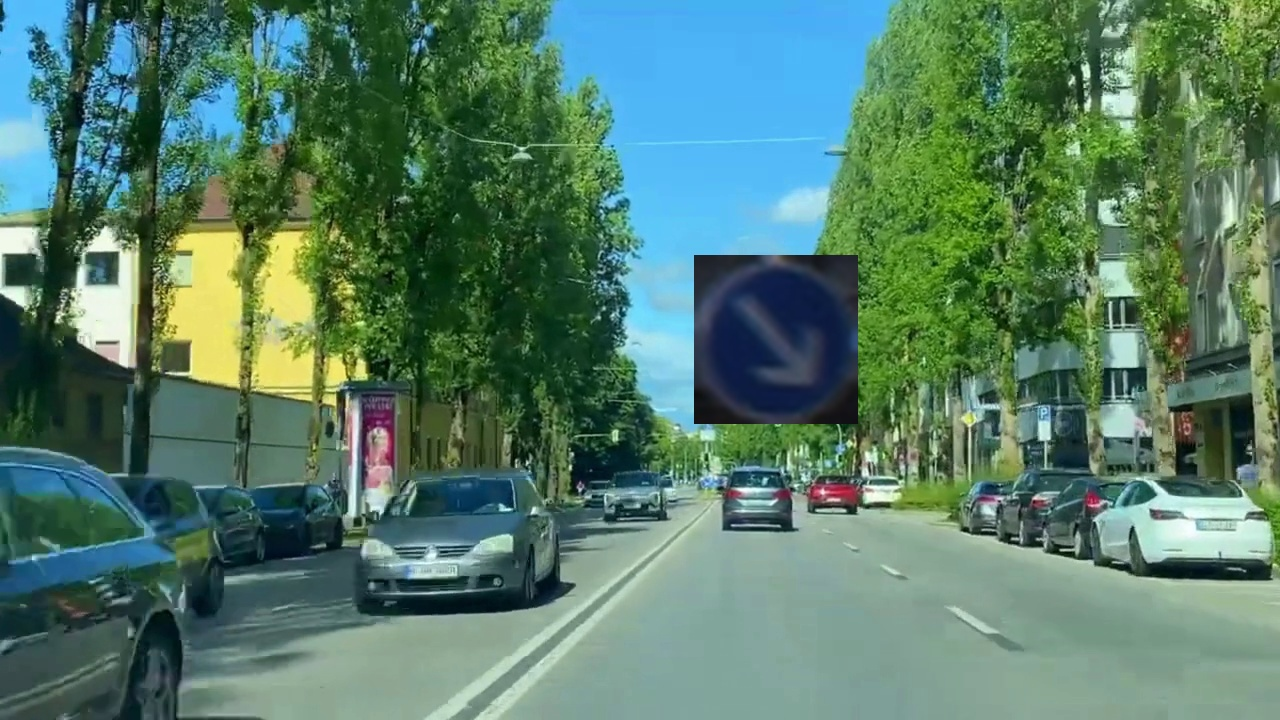Keep right: (694, 255, 858, 424)
